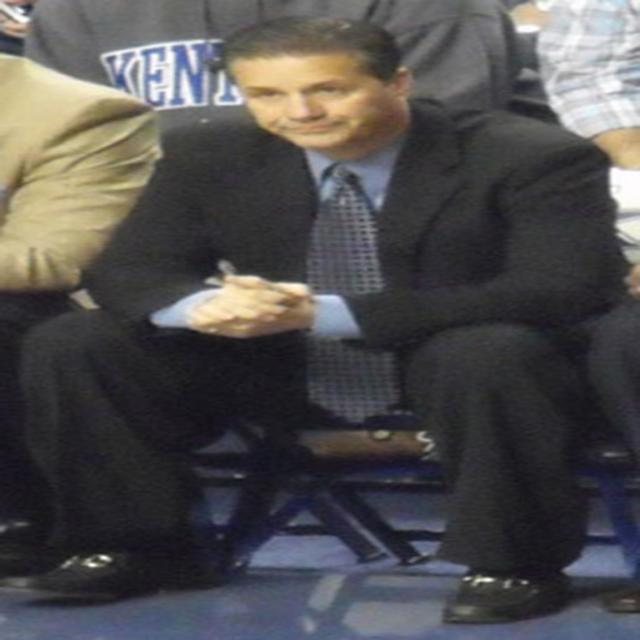nomask: (237, 59, 394, 144)
